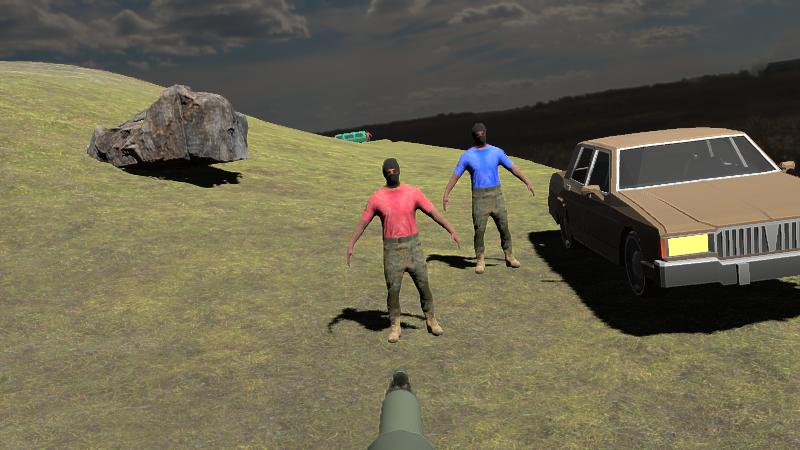Human: (347, 156, 459, 343), (443, 120, 535, 275)
car: (546, 126, 800, 299)
